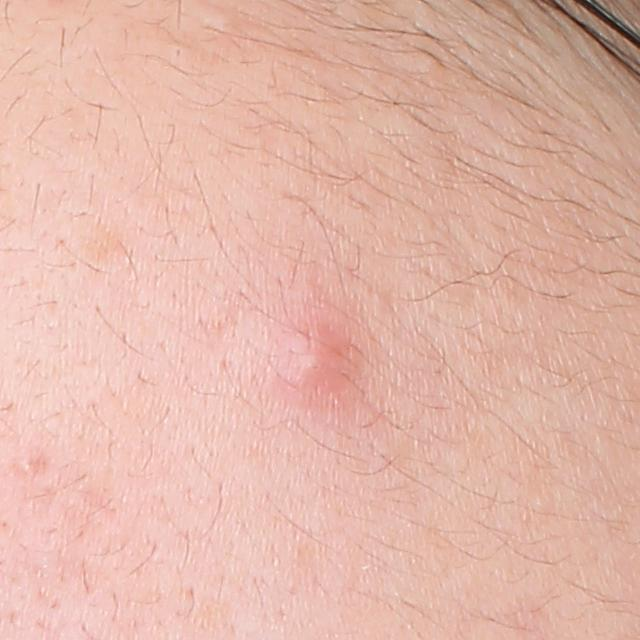comedo: (19, 457, 40, 474)
papule: (269, 312, 366, 403)
